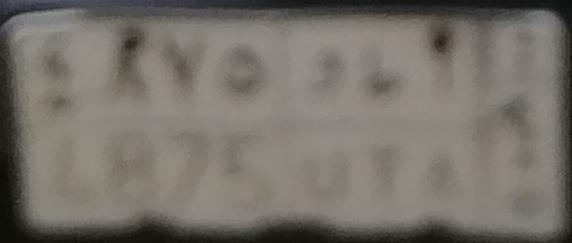4: (35, 35, 96, 223)
5: (215, 45, 275, 215)
7: (162, 38, 211, 213)
8: (104, 35, 160, 210)
A: (418, 40, 466, 216)
T: (361, 47, 405, 209)
U: (303, 47, 351, 211)
